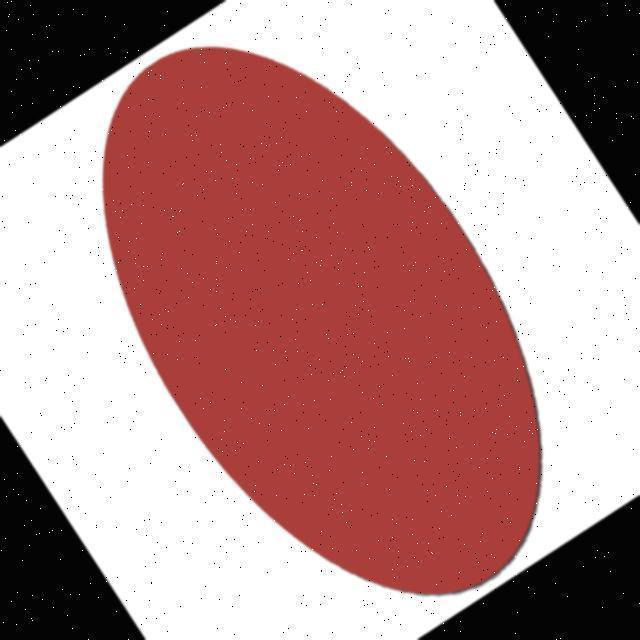Circle: (96, 40, 556, 600)
